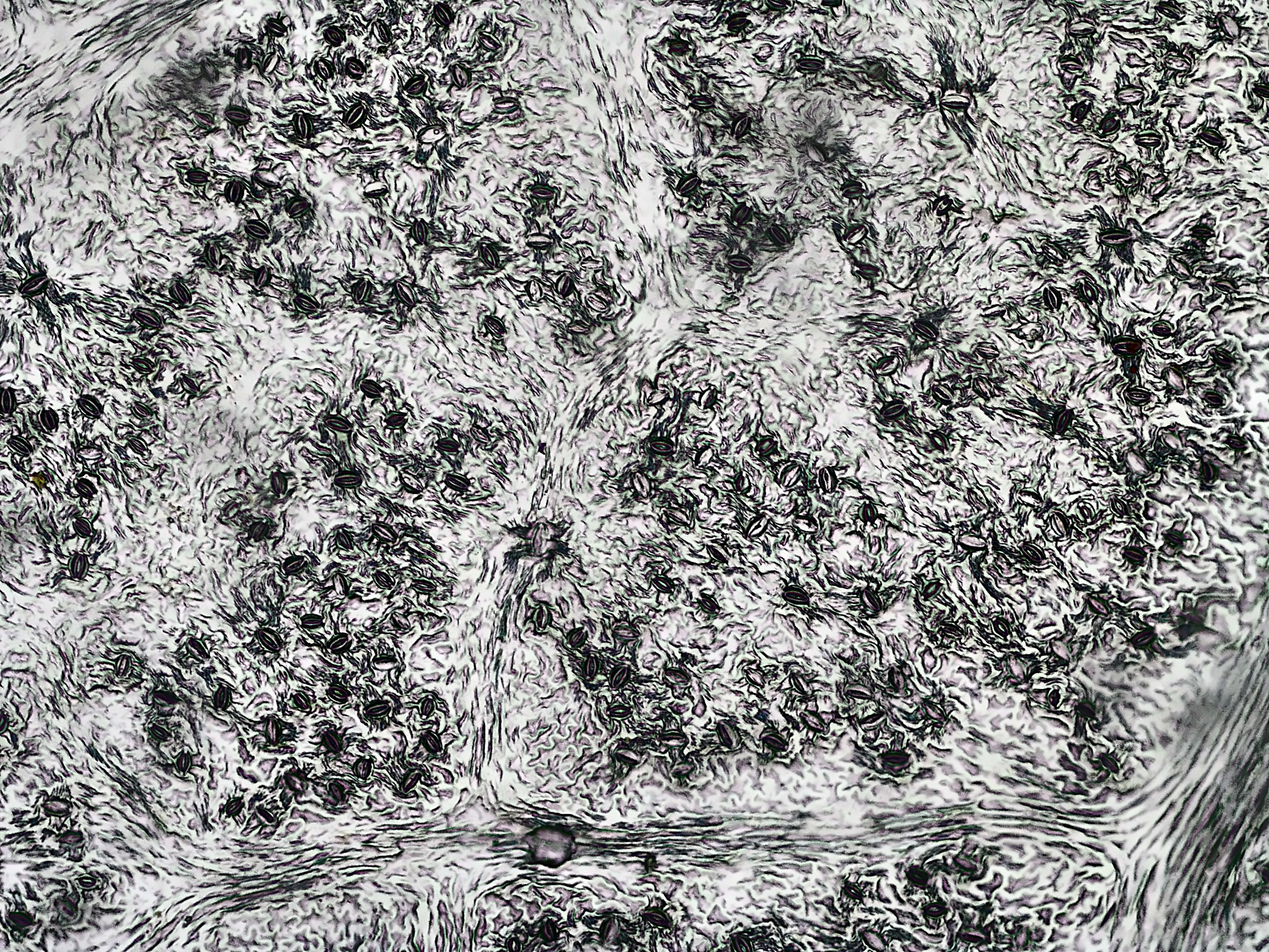stomata: (532, 601, 552, 635), (1040, 240, 1068, 264), (860, 928, 888, 952), (131, 306, 162, 327), (416, 123, 447, 144), (1006, 654, 1029, 682), (531, 522, 550, 555), (1124, 451, 1149, 476), (715, 720, 737, 748), (1096, 229, 1132, 246), (68, 551, 89, 580), (1112, 337, 1142, 357), (1113, 85, 1144, 104), (19, 275, 47, 296), (343, 104, 367, 128), (257, 627, 282, 650), (370, 19, 392, 45), (1134, 129, 1162, 149), (399, 469, 422, 493), (926, 429, 950, 452), (801, 710, 825, 733), (601, 917, 620, 946), (76, 395, 101, 417), (1218, 13, 1240, 38), (171, 278, 192, 304), (1199, 127, 1225, 148), (291, 111, 311, 138), (293, 293, 320, 313), (913, 319, 940, 339), (204, 240, 223, 268), (796, 54, 824, 73), (633, 471, 652, 499), (922, 699, 945, 722), (404, 75, 428, 97), (931, 382, 955, 404), (938, 94, 969, 111), (395, 279, 416, 304), (190, 109, 216, 129), (726, 253, 753, 272), (768, 223, 790, 246), (1159, 429, 1182, 451), (478, 30, 502, 51), (450, 62, 471, 86), (491, 96, 519, 114), (676, 174, 700, 195), (973, 374, 994, 398), (1050, 637, 1071, 661), (705, 542, 729, 563), (780, 463, 801, 487), (1051, 408, 1071, 433), (251, 170, 277, 189), (352, 277, 371, 303), (41, 797, 70, 814), (1162, 54, 1191, 71), (480, 242, 498, 269), (612, 624, 639, 642), (323, 25, 346, 46), (844, 225, 867, 246), (755, 435, 778, 456), (1079, 279, 1099, 303), (1165, 367, 1185, 391), (526, 232, 554, 249), (264, 716, 281, 744), (959, 929, 987, 946), (556, 272, 575, 297), (875, 356, 900, 375), (371, 522, 396, 541), (1050, 512, 1069, 537), (819, 467, 837, 493), (792, 515, 818, 533), (323, 416, 352, 432), (291, 691, 312, 713), (790, 673, 811, 695), (566, 627, 588, 648), (747, 515, 768, 537), (74, 477, 97, 497), (314, 58, 334, 81), (186, 638, 209, 658), (327, 633, 350, 653), (5, 436, 32, 453), (959, 532, 986, 549), (1068, 19, 1095, 36), (360, 379, 384, 398), (445, 472, 469, 491), (664, 507, 688, 526), (244, 220, 269, 238), (700, 386, 718, 411), (333, 472, 361, 488), (846, 684, 874, 700), (270, 469, 287, 495), (662, 667, 688, 684), (783, 586, 809, 603), (74, 517, 95, 538), (344, 57, 365, 78), (352, 758, 373, 779), (421, 731, 442, 752), (483, 314, 505, 334), (1096, 115, 1118, 135), (1123, 545, 1145, 565), (434, 3, 453, 26), (731, 116, 750, 139), (585, 293, 608, 312), (1043, 286, 1062, 309), (371, 654, 400, 669), (614, 747, 638, 765), (200, 58, 217, 83), (1126, 387, 1151, 404), (1058, 59, 1083, 76), (247, 521, 268, 541), (523, 280, 543, 301), (931, 195, 952, 215), (881, 750, 909, 765), (861, 590, 881, 611), (660, 731, 688, 746), (265, 18, 287, 37), (418, 696, 437, 718), (1021, 543, 1043, 562), (184, 168, 210, 184), (214, 685, 230, 711), (287, 199, 310, 217), (411, 219, 429, 242), (733, 202, 751, 225), (282, 555, 305, 573), (732, 472, 750, 495), (889, 666, 906, 690), (1018, 490, 1042, 507), (224, 107, 251, 122), (410, 578, 437, 593), (840, 182, 865, 198), (881, 403, 906, 419), (745, 666, 765, 686), (179, 373, 198, 394), (128, 436, 149, 455), (1071, 100, 1090, 121), (699, 593, 720, 612), (858, 502, 877, 523), (254, 266, 272, 288), (40, 407, 58, 429), (261, 52, 279, 74), (976, 341, 998, 359), (328, 685, 350, 703), (1087, 598, 1109, 616), (224, 180, 241, 203), (76, 445, 102, 460), (859, 714, 885, 729), (331, 573, 347, 597), (391, 610, 410, 630), (610, 667, 629, 687), (1075, 502, 1095, 521), (364, 703, 391, 717), (175, 751, 190, 776), (583, 655, 598, 680), (385, 412, 407, 429), (364, 179, 386, 196), (373, 570, 395, 587), (235, 45, 251, 68), (724, 14, 747, 30), (115, 654, 131, 677), (645, 909, 668, 925), (763, 733, 786, 749), (651, 576, 674, 592), (149, 722, 168, 741), (694, 446, 713, 465), (530, 183, 554, 198), (1109, 495, 1127, 515), (131, 355, 152, 372), (153, 690, 174, 707), (322, 731, 339, 752), (906, 868, 927, 885), (1132, 629, 1153, 646), (469, 426, 491, 442), (335, 528, 351, 550), (1114, 166, 1136, 182), (941, 622, 963, 638), (648, 440, 673, 454), (437, 437, 460, 452), (404, 769, 419, 792), (992, 618, 1009, 638), (1211, 348, 1231, 365), (1187, 225, 1215, 237), (1074, 703, 1095, 719), (299, 613, 321, 628), (607, 706, 632, 719), (285, 774, 304, 791), (1213, 279, 1236, 293), (131, 401, 151, 417), (857, 264, 879, 278), (923, 903, 945, 917), (256, 806, 274, 823), (329, 782, 345, 801), (922, 582, 940, 598), (1153, 322, 1172, 337), (1200, 460, 1215, 479), (668, 38, 688, 52), (541, 919, 555, 939), (1049, 689, 1063, 709), (1226, 435, 1246, 449), (691, 96, 714, 108), (59, 830, 82, 842), (1101, 755, 1118, 771), (225, 799, 241, 815), (1165, 530, 1182, 545), (1206, 391, 1222, 406), (80, 875, 96, 888), (844, 886, 861, 897)
